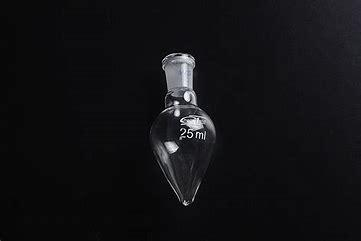Pear shaped flask: (145, 41, 220, 208)
